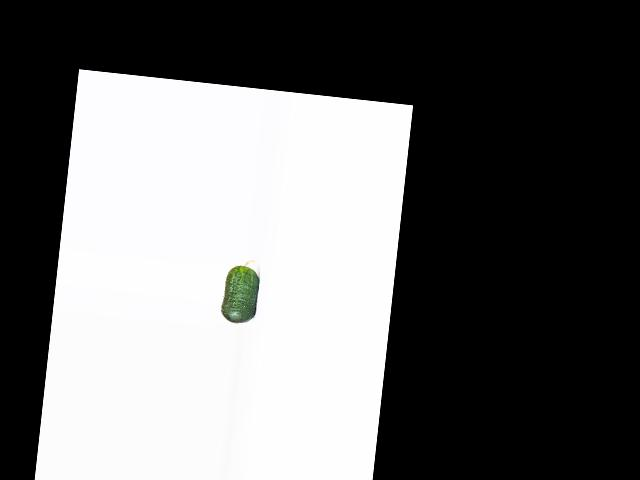cucumber: (219, 257, 261, 324)
